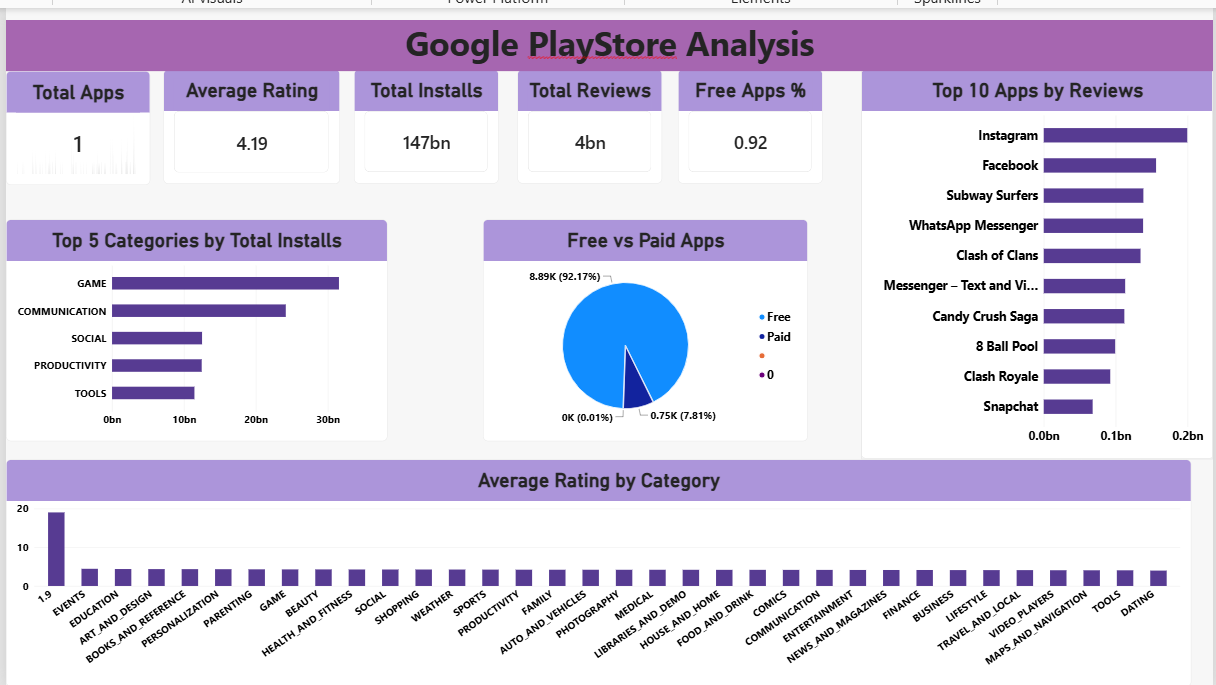

Layout of this report page (visuals, bound fields, positions):
{"tool":"powerbi","page":{"name":"Page 1","canvas":[1920,1080],"ordinal":0},"visuals":[{"type":"kpi","title":"Total Apps","fields":{"Indicator":["CountNonNull(googleplaystore_powerbi.App)"],"TrendLine":["googleplaystore_powerbi.App"]},"box":[0,99.2,229.6,181.4],"z":0},{"type":"cardVisual","title":"Average Rating","fields":{"Data":["Avg(googleplaystore_powerbi.Rating)"]},"box":[251,98.6,280.8,182.2],"z":1},{"type":"cardVisual","title":"Total Installs","fields":{"Data":["Sum(googleplaystore_powerbi.Installs)"]},"box":[552.7,98.6,230,181],"z":2},{"type":"cardVisual","title":"Total Reviews","fields":{"Data":["Sum(googleplaystore_powerbi.Reviews)"]},"box":[812.6,98.6,230,181],"z":3},{"type":"cardVisual","title":"Free Apps %","fields":{"Data":["googleplaystore_powerbi.Free Apps %"]},"box":[1069.6,98.6,230,181],"z":4},{"type":"clusteredBarChart","title":"Top 5 Categories by Total Installs","fields":{"Category":["googleplaystore_powerbi.Category"],"Y":["Sum(googleplaystore_powerbi.Installs)"]},"box":[0,337.6,606.5,352.5],"z":5},{"type":"clusteredBarChart","title":"Top 10 Apps by Reviews","fields":{"Category":["googleplaystore_powerbi.App"],"Y":["Sum(googleplaystore_powerbi.Reviews)"]},"box":[1359.4,98.6,561.7,618.4],"z":6},{"type":"clusteredColumnChart","title":"Average Rating by Category","fields":{"Category":["googleplaystore_powerbi.Category"],"Y":["Avg(googleplaystore_powerbi.Rating)"]},"box":[0,717,1885.2,361.5],"z":7},{"type":"pieChart","title":"Free vs Paid Apps","fields":{"Category":["googleplaystore_powerbi.Type"],"Y":["Count(googleplaystore_powerbi.App)"]},"box":[758.9,337.6,516.9,352.5],"z":8}]}

Visuals, with their boxes on the page's 1920x1080 design canvas (x1, y1, x2, y2). These are canvas units, not pixel positions in the 1216x685 screenshot, which may show the page scaled, cropped or inside an application window:
"Total Apps" kpi: bbox=(0, 99, 230, 281)
"Average Rating" cardVisual: bbox=(251, 99, 532, 281)
"Total Installs" cardVisual: bbox=(553, 99, 783, 280)
"Total Reviews" cardVisual: bbox=(813, 99, 1043, 280)
"Free Apps %" cardVisual: bbox=(1070, 99, 1300, 280)
"Top 5 Categories by Total Installs" clusteredBarChart: bbox=(0, 338, 606, 690)
"Top 10 Apps by Reviews" clusteredBarChart: bbox=(1359, 99, 1921, 717)
"Average Rating by Category" clusteredColumnChart: bbox=(0, 717, 1885, 1078)
"Free vs Paid Apps" pieChart: bbox=(759, 338, 1276, 690)
